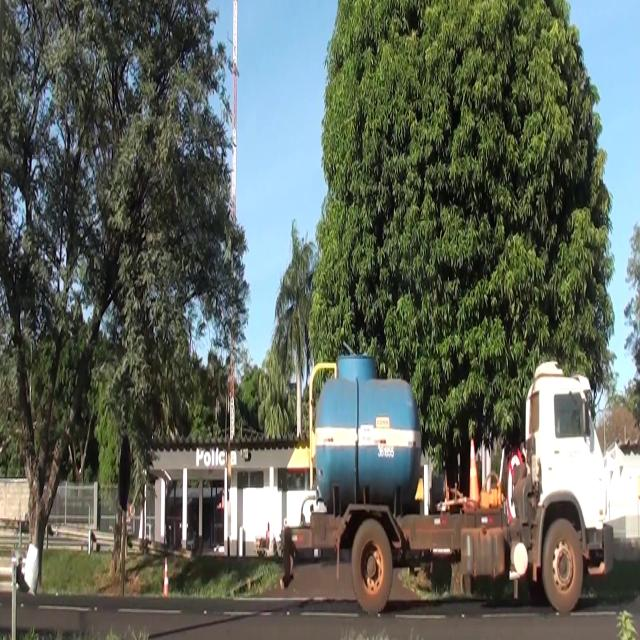-axle: (352, 517, 394, 612), (543, 517, 583, 614)
